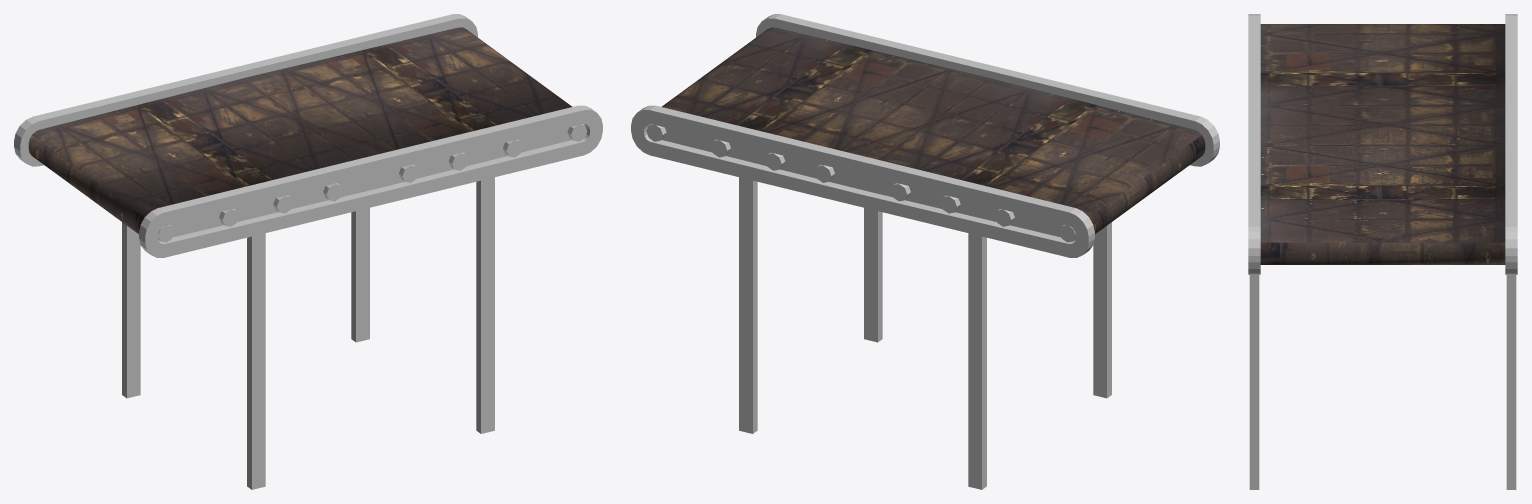
The model's file is conveyer.fbx.
3 renders of one model, left to right at view 1: azimuth 30°, elevation 25°; view 2: azimuth 150°, elevation 25°; view 3: azimuth 270°, elevation 25°, orthographic. The views are drawn at different scales.
Parts seen in each view (by area): view 1: Cube; view 2: Cube; view 3: Cube.
Boxes of the visible parts, x1=… form: Cube: x1=14, y1=14, x2=602, y2=489; Cube: x1=631, y1=14, x2=1219, y2=489; Cube: x1=1248, y1=14, x2=1517, y2=489.
Bounding box in the file's own units: 5535 × 3462 × 2747.
